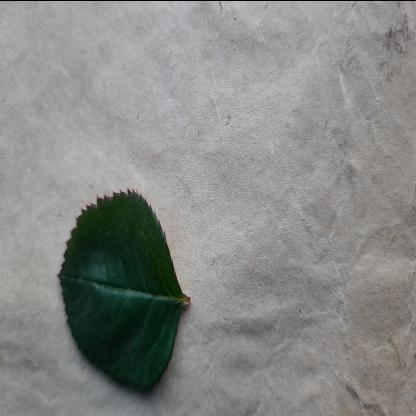normal: (61, 185, 182, 391)
